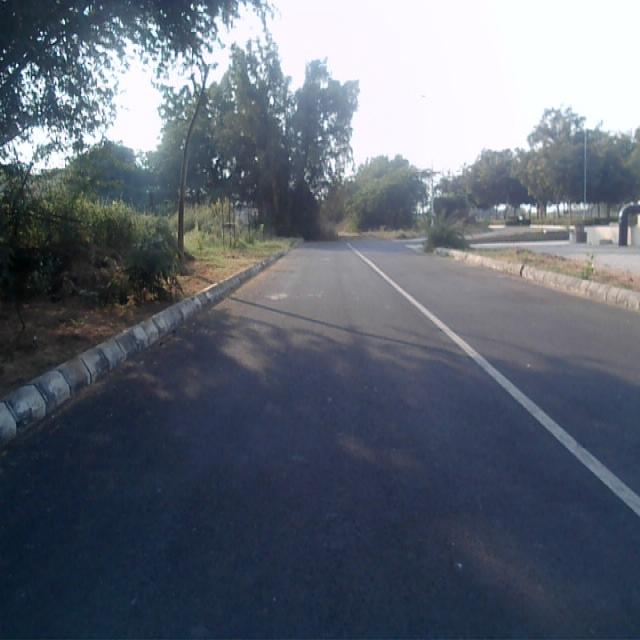lane: (0, 241, 640, 640)
